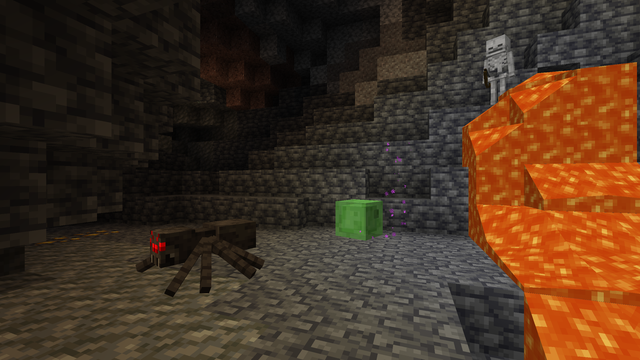araignees: (131, 214, 257, 295)
slimes: (337, 198, 379, 240)
squelettes: (484, 33, 512, 105)
